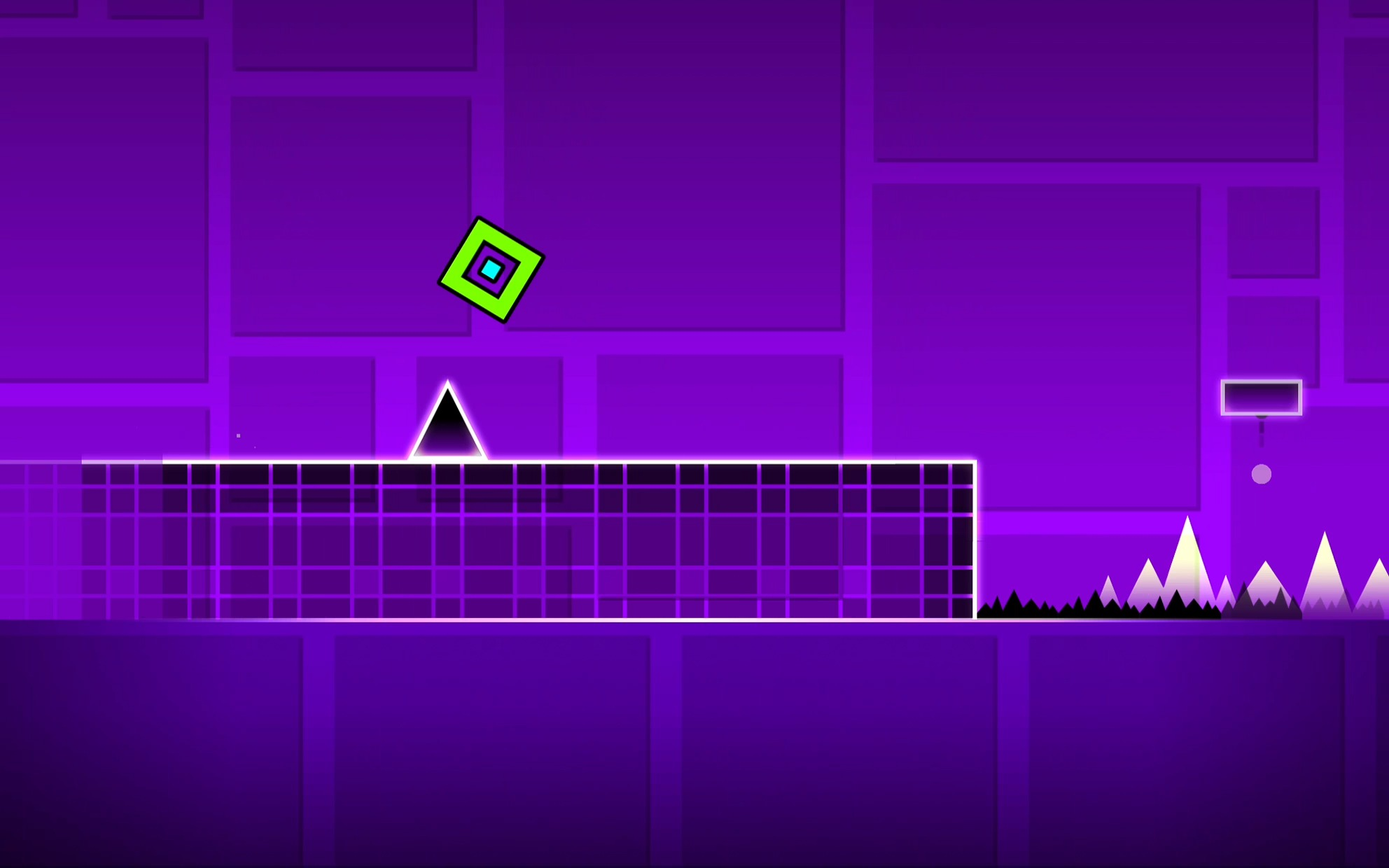Block2: (0, 456, 963, 613)
Block3: (1219, 380, 1302, 416)
Player: (438, 216, 544, 321)
Spike: (409, 381, 486, 458)
Spike3: (977, 582, 1388, 622)
